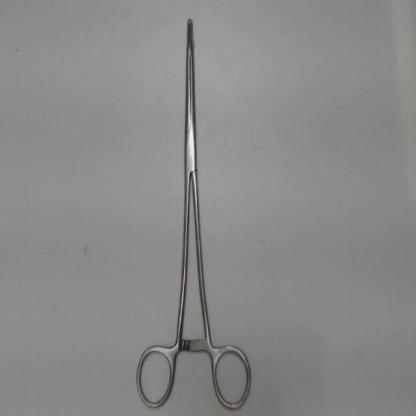Lahey Forceps: (134, 13, 254, 412)
